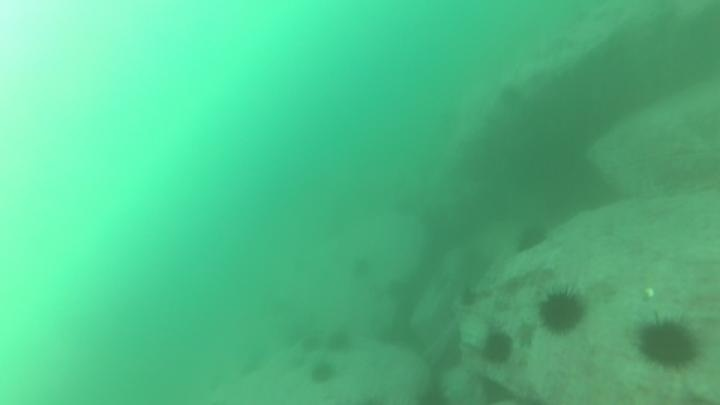echinus: (632, 311, 704, 374), (536, 285, 589, 337), (478, 327, 517, 368), (512, 221, 551, 256), (496, 81, 526, 111), (307, 359, 338, 386), (325, 327, 354, 354), (348, 254, 375, 281)
starfish: (513, 319, 539, 352)
